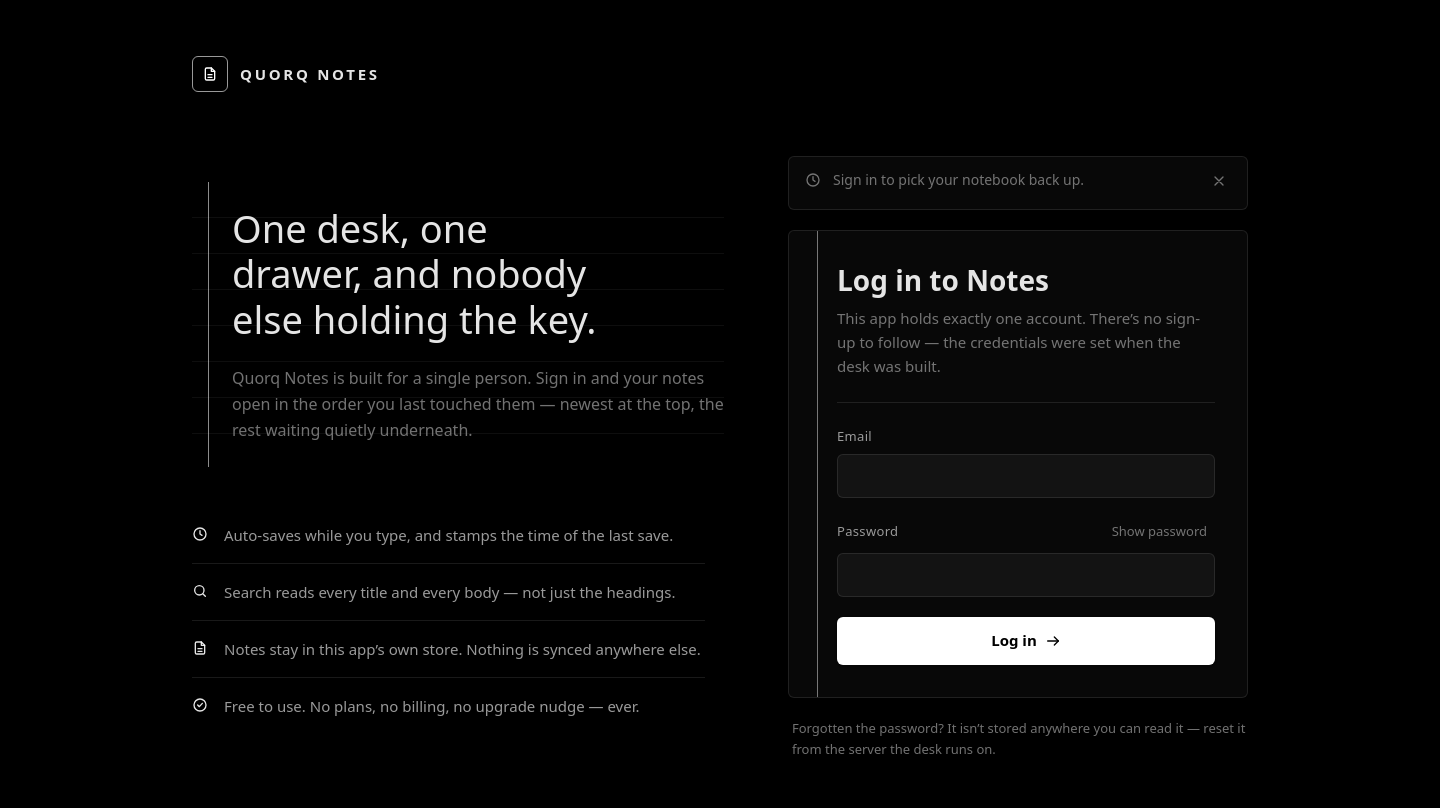
Login screen › [AC-002] keeps the user on login and shows an error when credentials are rejected
The width and height of the screenshot is (1440, 808).
Step 1. Type "wrong@example.com" into the field labelled "Email" → (1026, 476), box [837, 454, 1215, 498]
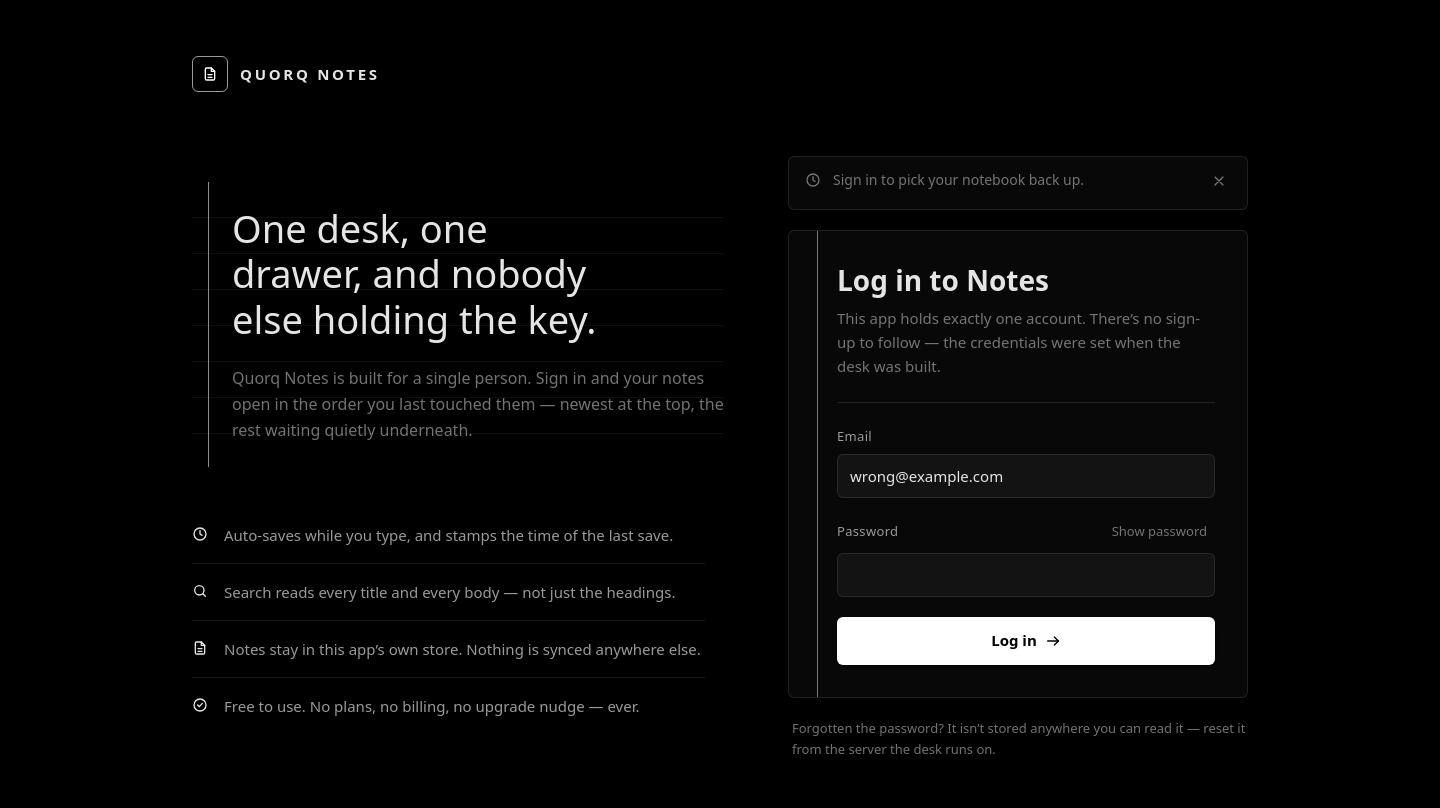
Step 2. Type "bad-password" into the password field labelled "Password" → (1026, 575), box [837, 553, 1215, 597]
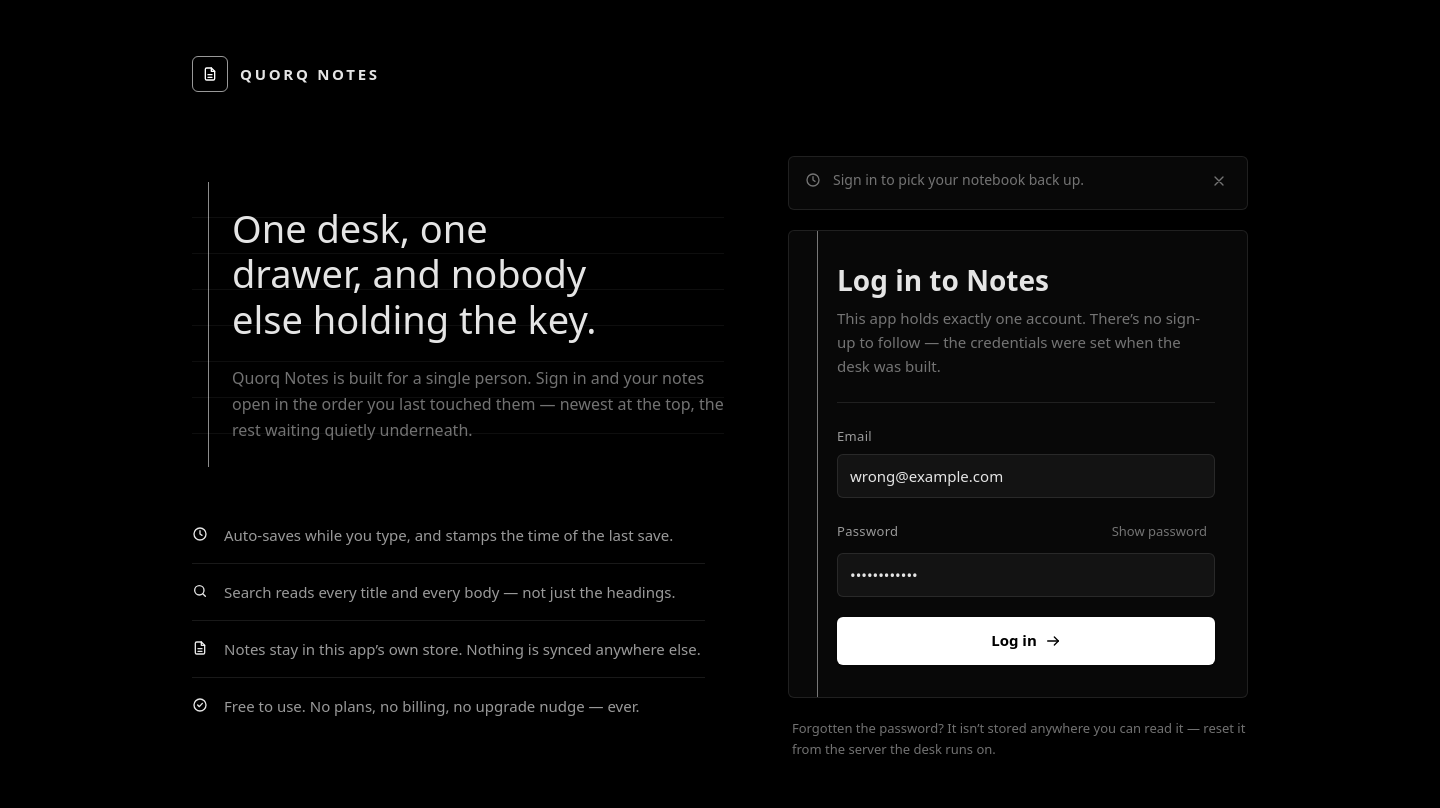
Step 3. Click the button "Log in" → (1026, 641), box [837, 617, 1215, 665]
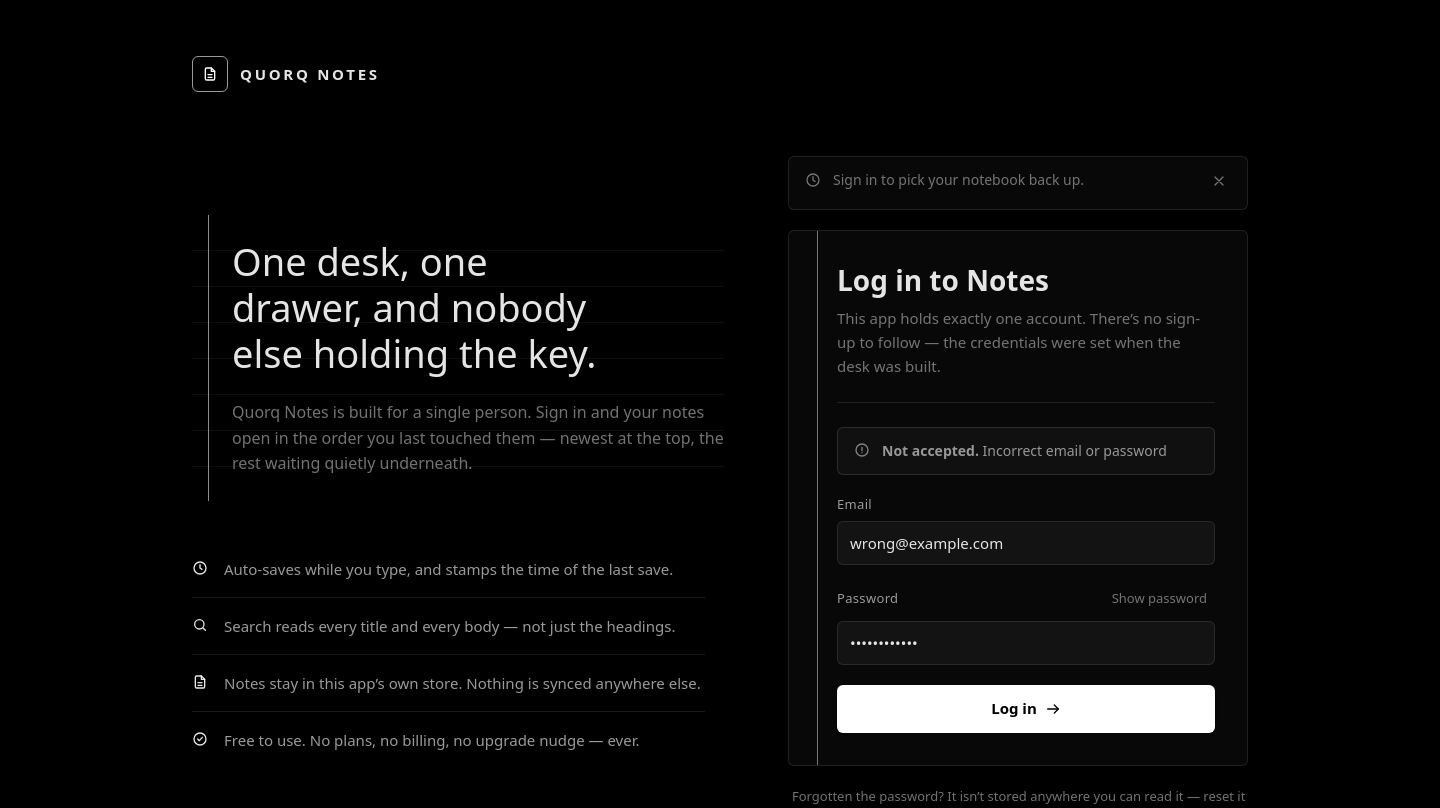
Expected: the heading "Log in to Notes" is shown, [837, 261, 1049, 299]
Result: the message "Not accepted. Incorrect email or password" is shown at [837, 427, 1215, 475]
